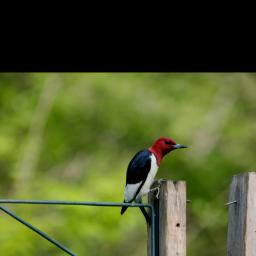Woodpecker: (120, 137, 188, 216)
